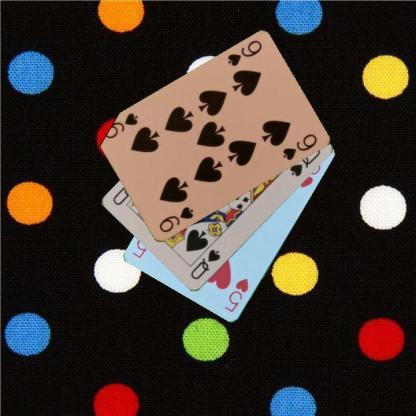5h: (222, 276, 250, 314)
9s: (156, 204, 194, 234), (225, 38, 263, 68)
Qs: (188, 247, 222, 281)
